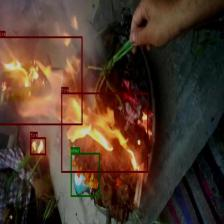fire: (0, 36, 82, 125), (61, 92, 148, 172), (30, 137, 46, 155)
